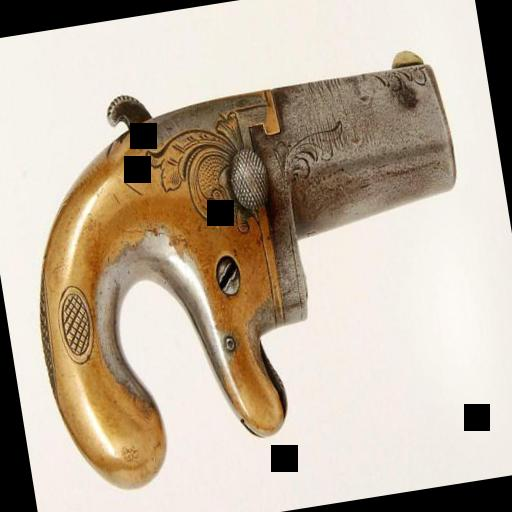Handgun: (0, 18, 501, 505)
